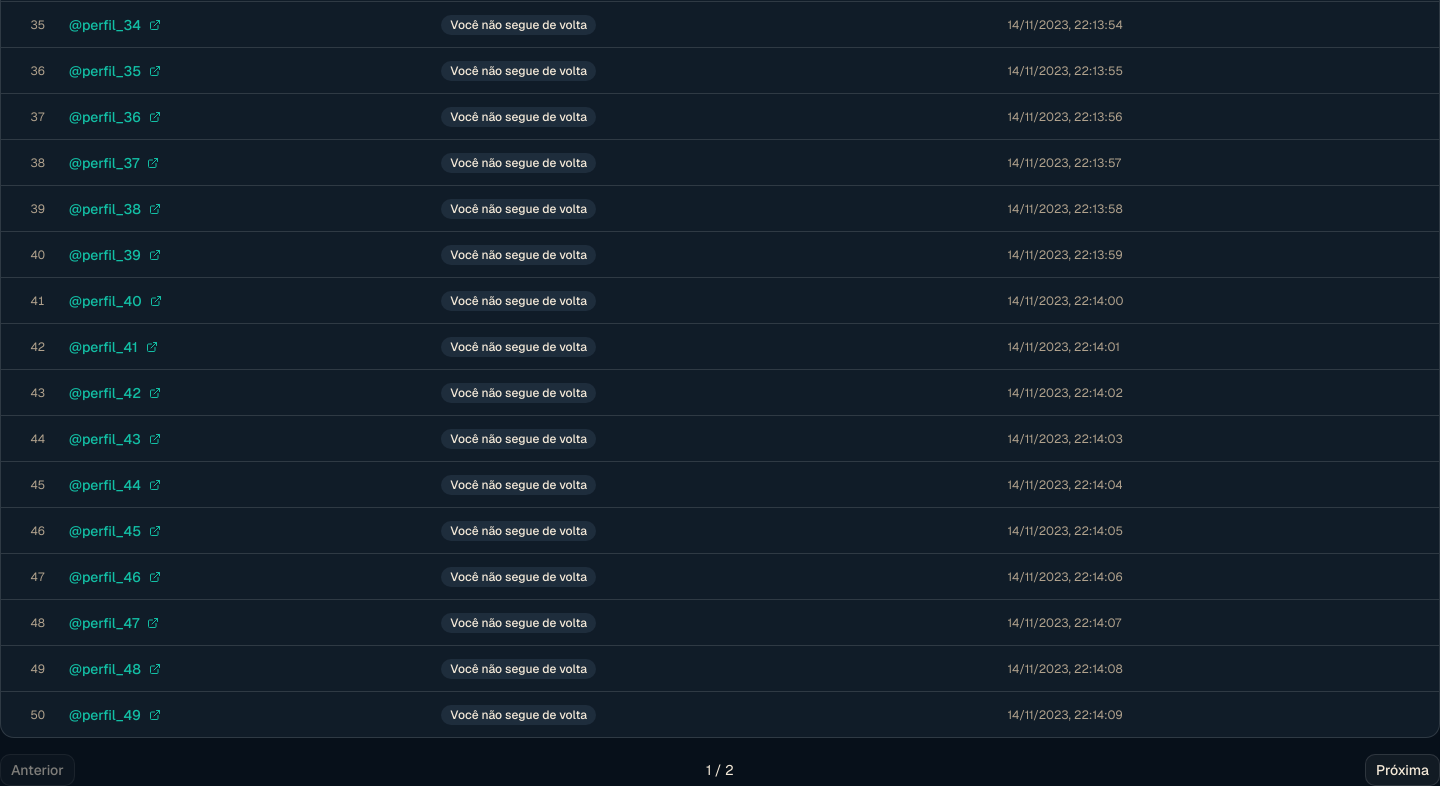
busca, pagina e abre links seguros no snapshot solicitado
(page scrolled)
Click the button "Próxima": (1402, 770) x1=1365 y1=754 x2=1439 y2=785
(page scrolled)
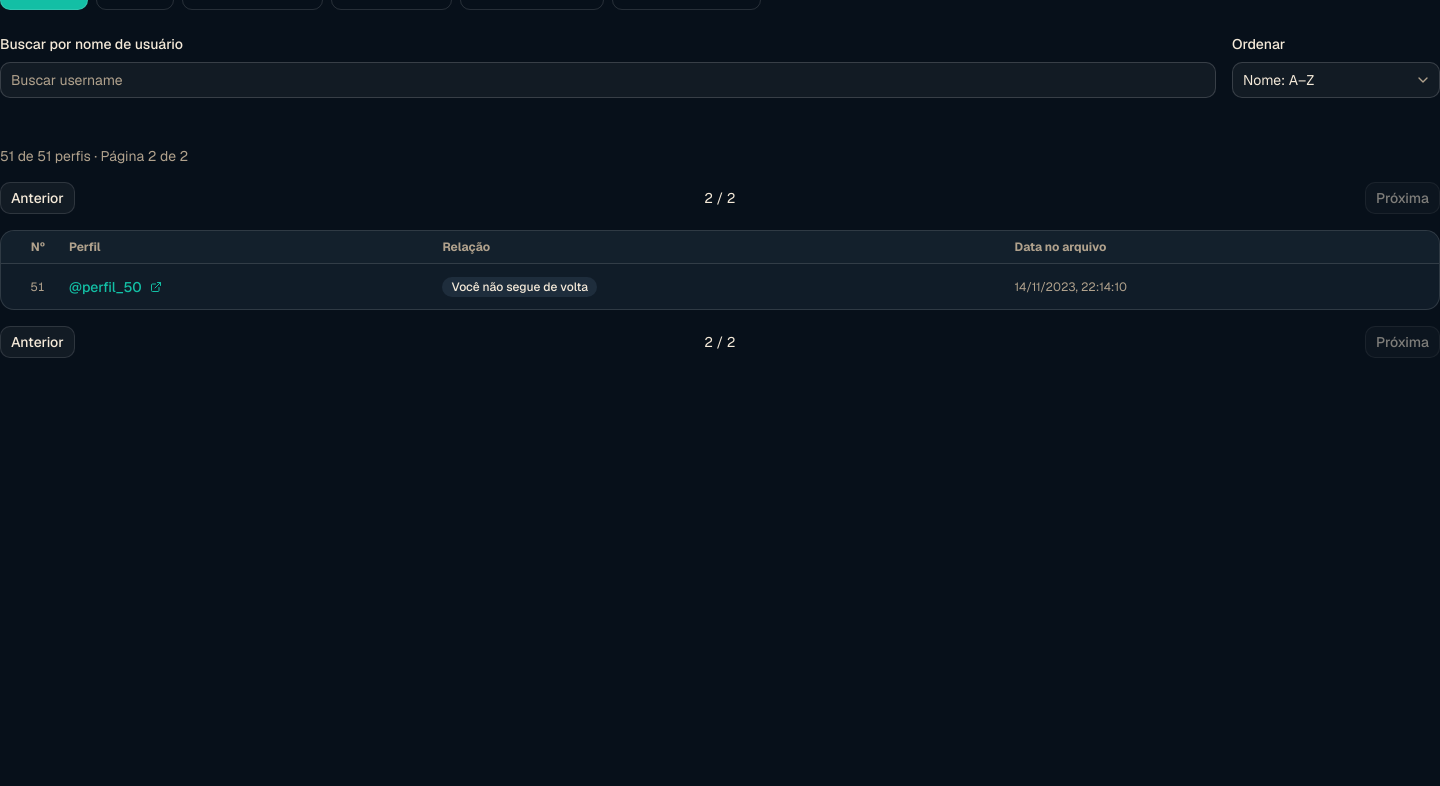
Expected: the cell "51" is shown, x1=1 y1=264 x2=57 y2=309
Result: the navigation bar named "Paginação inferior" shows "2 / 2" at x1=0 y1=326 x2=1439 y2=358
In the field labelled "Buscar por nome de usuário": (608, 80) x1=0 y1=62 x2=1216 y2=98, type "@PERFIL_00"
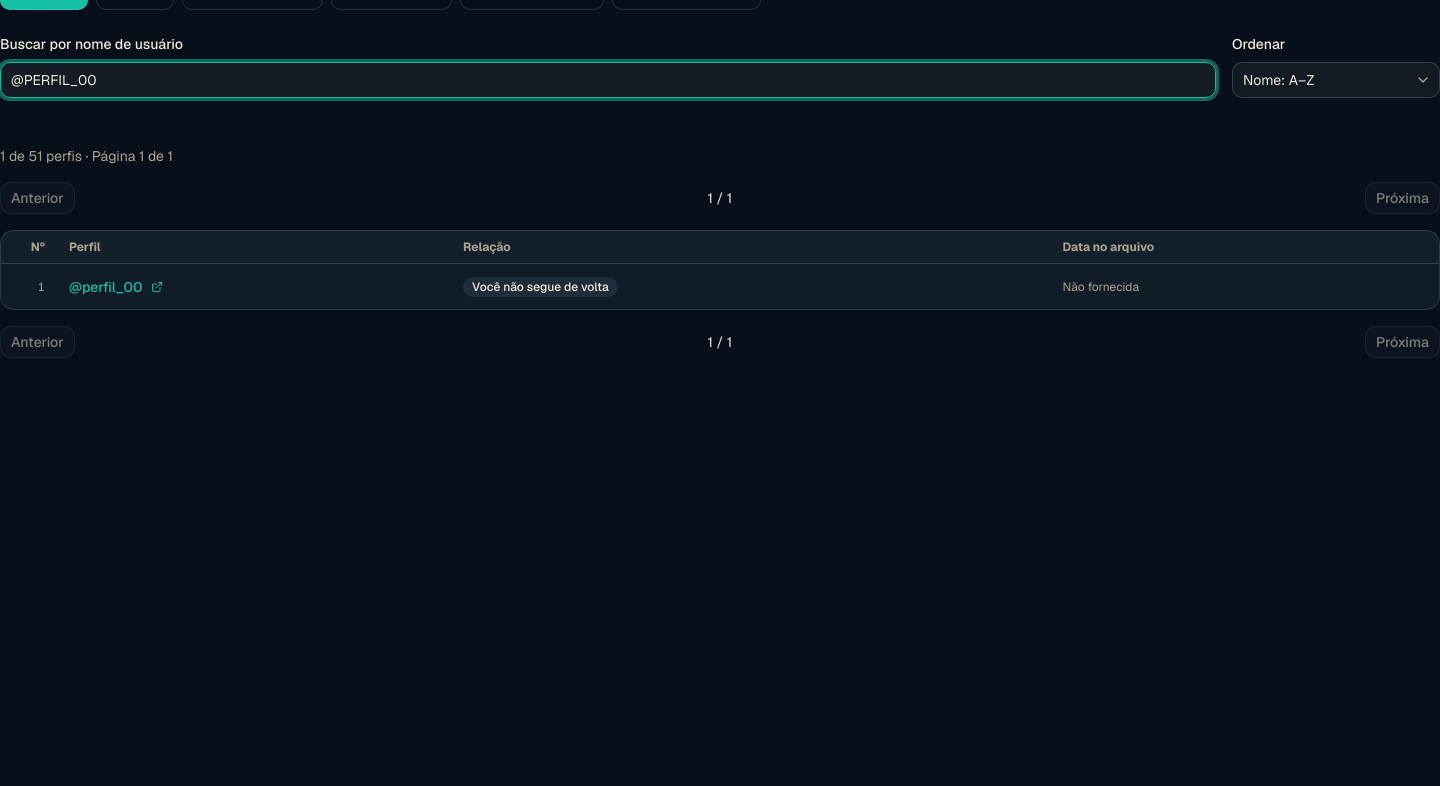
Result: the message reads "1 de 51 perfis · Página 1 de 1" at x1=0 y1=147 x2=173 y2=165
Replace the text in the field labelled "Buscar por nome de usuário" with "inexistente": (608, 80) x1=0 y1=62 x2=1216 y2=98
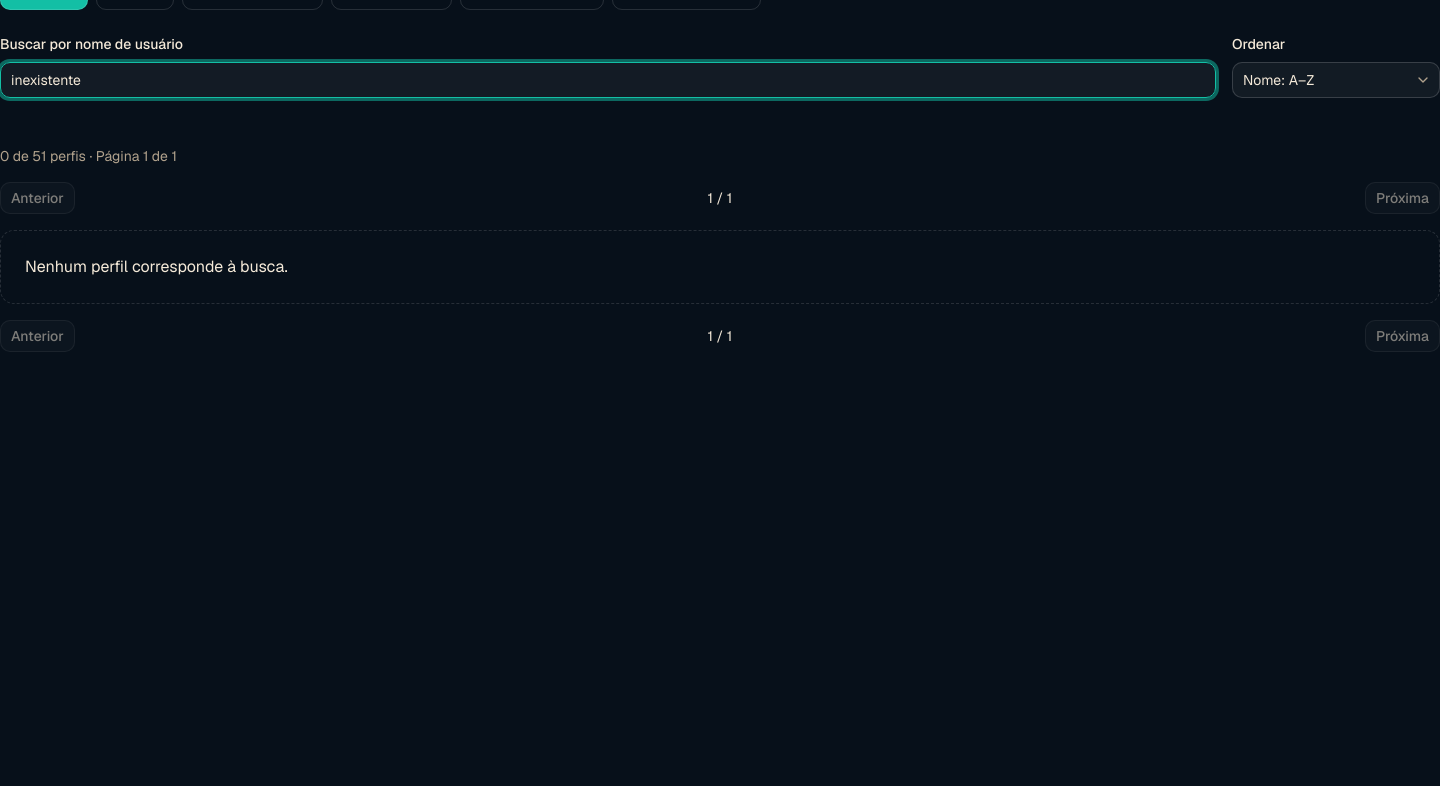
Result: the text "Nenhum perfil corresponde à busca." is shown at x1=0 y1=230 x2=1439 y2=304
